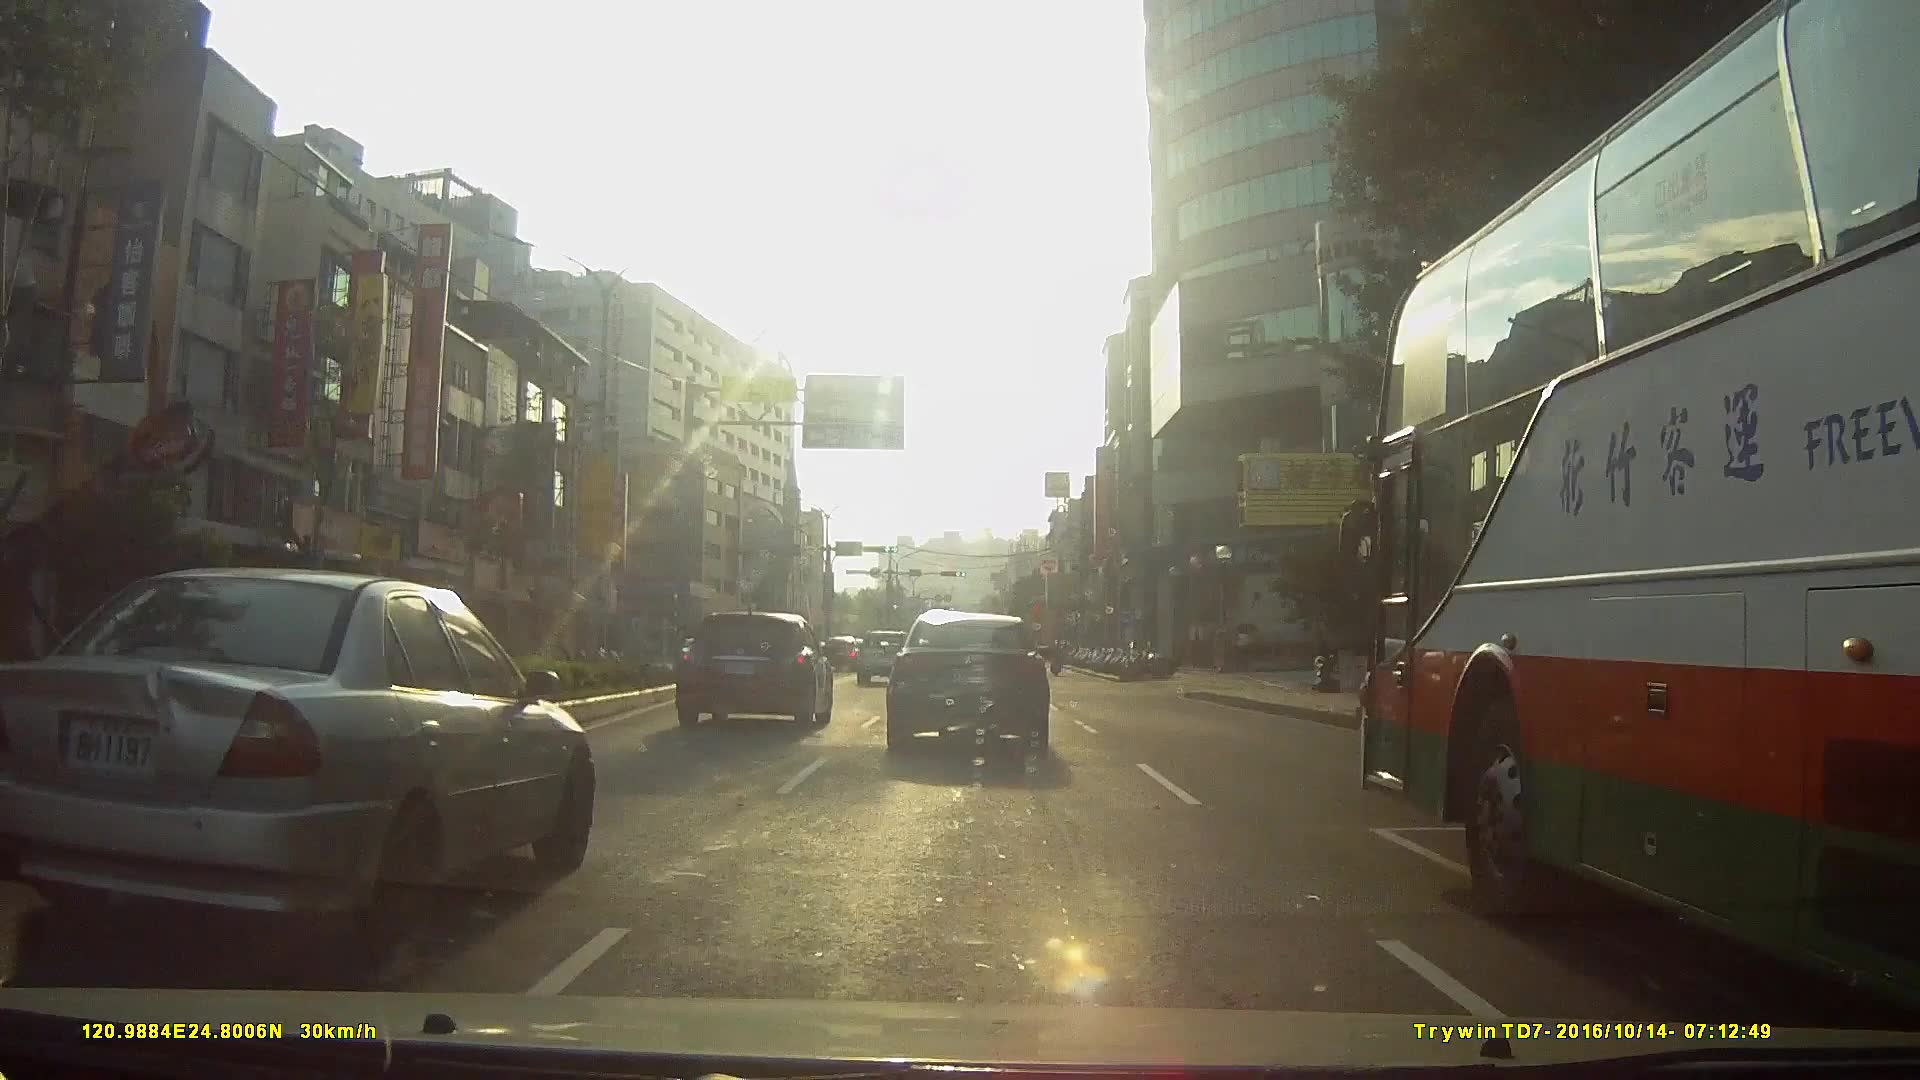vehicle: (1344, 4, 1919, 1022), (0, 564, 593, 976), (880, 607, 1048, 753), (673, 611, 833, 731), (851, 628, 910, 682)
